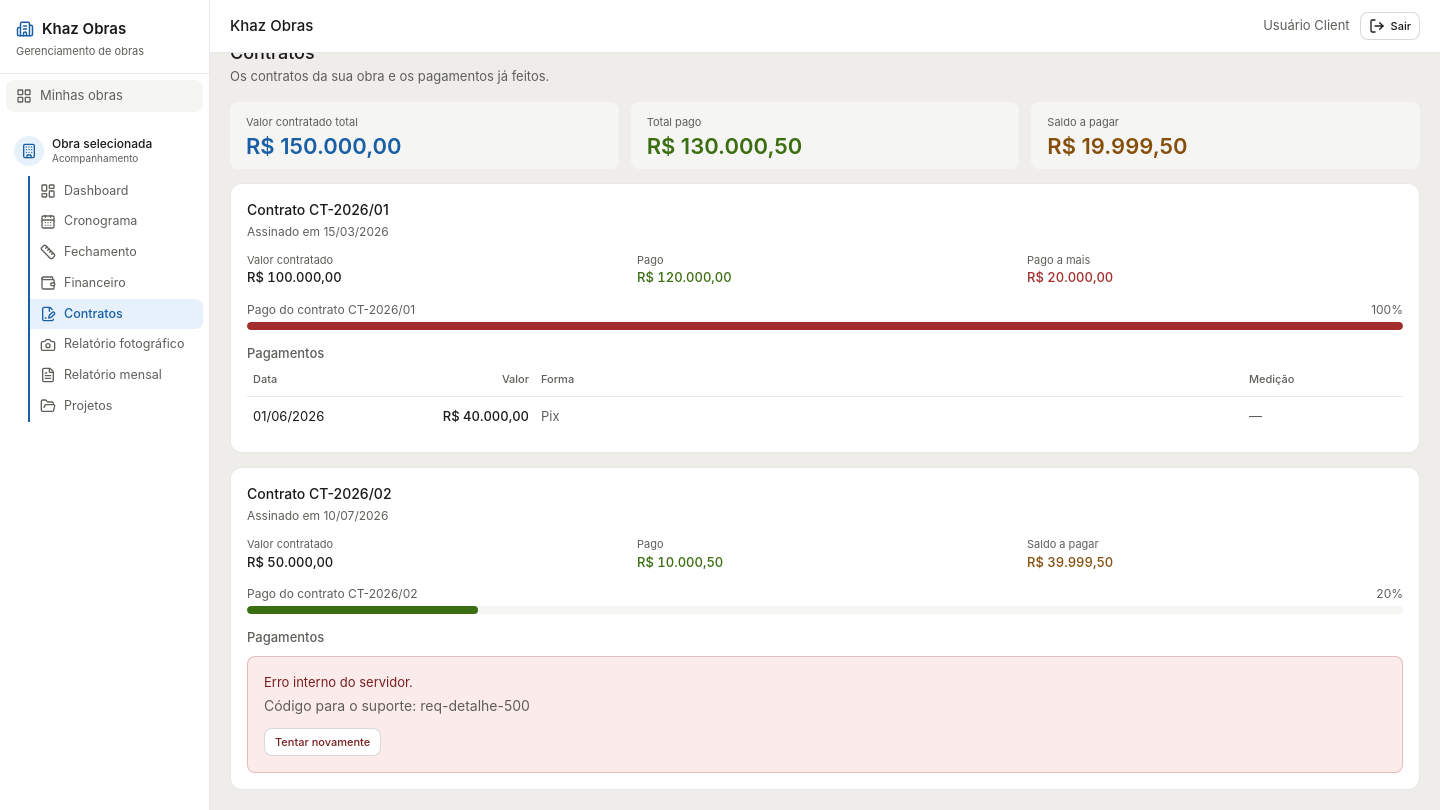
Contratos (cliente) - pagamentos › erro 500 no detalhe de um contrato mostra o código só naquele card e permite tentar de novo
(page scrolled)
expect the message shows "req-detalhe-500": met, box [420,697,530,714]
expect the heading "Contrato CT-2026/01" is shown: met, box [247,200,389,218]
Click the button "Tentar novamente" at (323, 742), box [264,728,381,756]
(page scrolled)
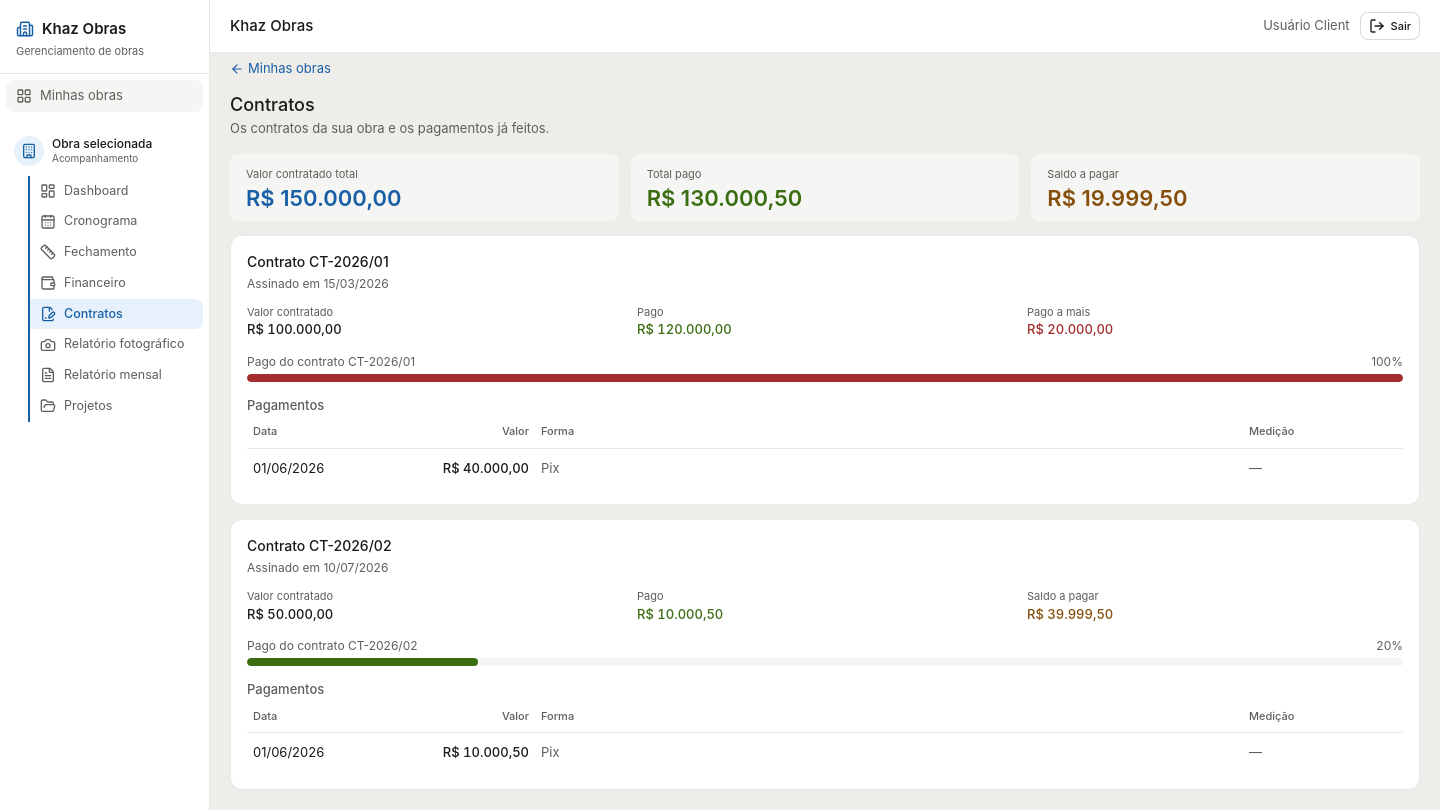
expect the table "Data Valor Forma Medição 01/06/2026 R$ 10.000,50 Pix —" is shown: met, box [247,708,1403,772]
